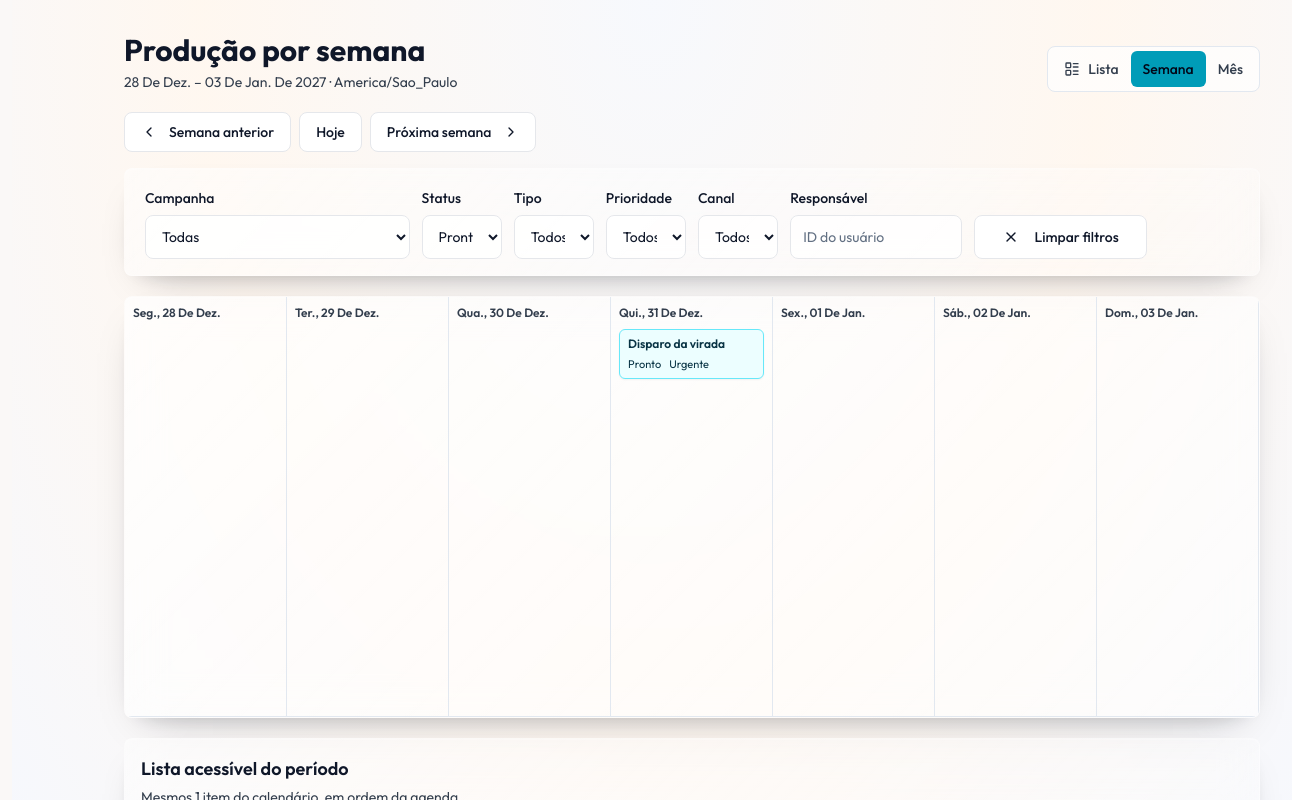
Test: ProductionWeekPage › queries canonical UTC limits, preserves filters and navigates across the year boundary
The image size is (1292, 800).
Click the button "Próxima semana": (453, 132) x1=370 y1=112 x2=536 y2=152
(page scrolled)
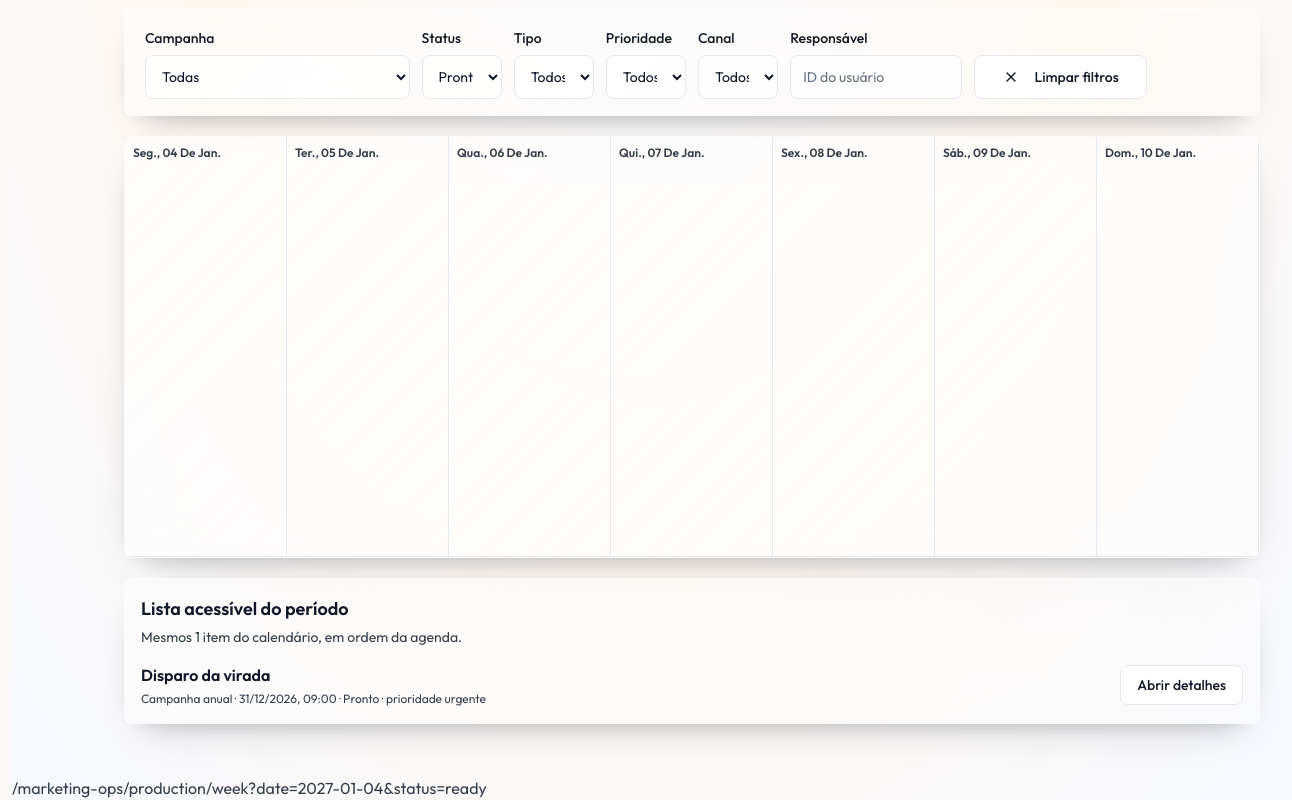
Expected: the text with test id "location" shows "status=ready", x1=248 y1=778 x2=487 y2=798
Expected: the text with test id "location" shows "date=2027-01-04", x1=248 y1=778 x2=487 y2=798
